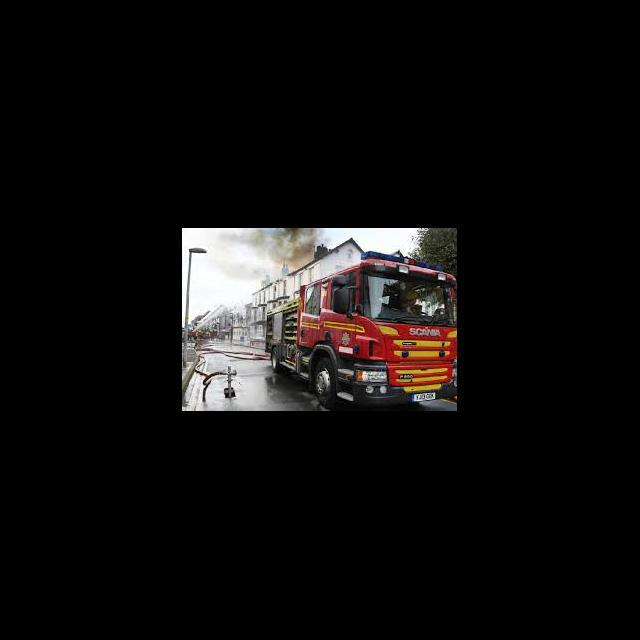Smoke: (222, 228, 322, 264)
